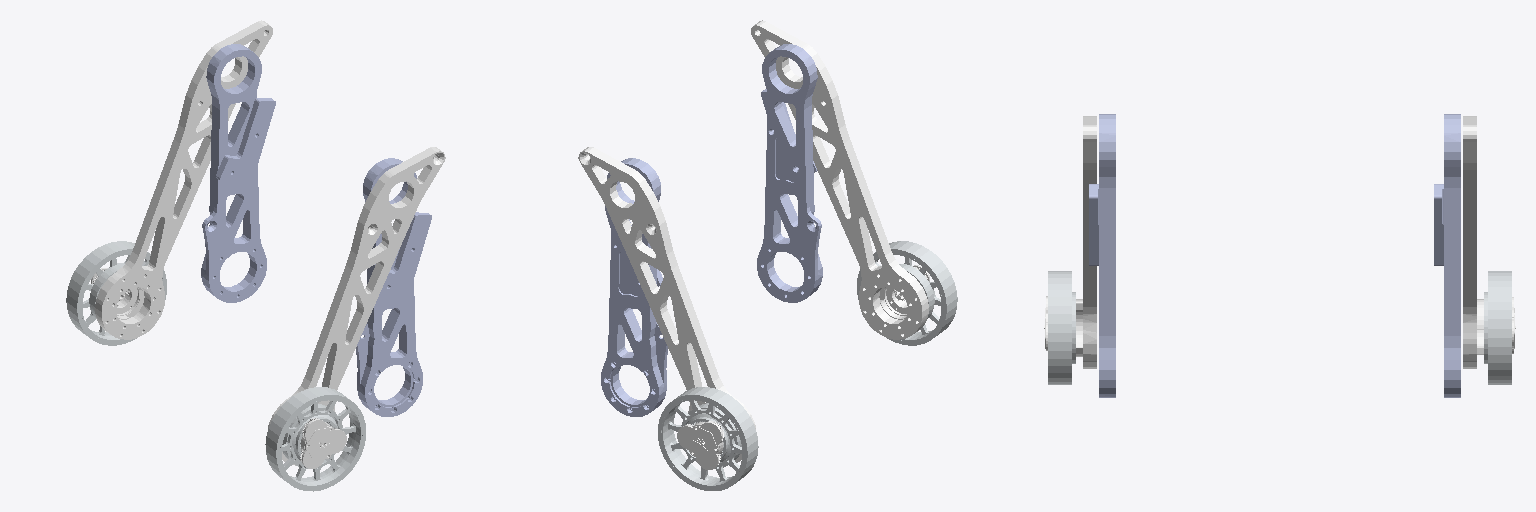
URDF robot description (universal):
<?xml version="1.0" encoding="utf-8"?>
<!-- This URDF was automatically created by SolidWorks to URDF Exporter! Originally created by [author] ([email redacted]) 
     Commit Version: 1.6.0-1-g15f4949  Build Version: 1.6.7594.29634
     For more information, please see http://wiki.ros.org/sw_urdf_exporter -->
<robot
  name="universal">
  <link
    name="base_link">
    <inertial>
      <origin
        xyz="-0.00414044238561839 -0.000691260188723397 0.0117699788251773"
        rpy="0 0 0" />
      <mass
        value="17.1531315996557" />
      <inertia
        ixx="0.0275273995724078"
        ixy="-8.22864842046397E-05"
        ixz="0.000931700623151425"
        iyy="0.0313450403332022"
        iyz="-5.19664788147283E-05"
        izz="0.0357084043722195" />
    </inertial>
    <visual>
      <origin
        xyz="0 0 0"
        rpy="0 0 0" />
      <geometry>
        <mesh
          filename="../meshes/base_link.STL" />
      </geometry>
      <material
        name="">
        <color
          rgba="0.752941176470588 0.752941176470588 0.752941176470588 1" />
      </material>
    </visual>
    <collision>
      <origin
        xyz="0 0 0"
        rpy="0 0 0" />
      <geometry>
        <mesh
          filename="../meshes/base_link.STL" />
      </geometry>
    </collision>
  </link>
  <link
    name="right_thigh">
    <inertial>
      <origin
        xyz="-0.11463603534979 0.00802052218660743 0.000250243368407732"
        rpy="0 0 0" />
      <mass
        value="0.441858933802641" />
      <inertia
        ixx="0.000184117233652697"
        ixy="-8.96093831711135E-06"
        ixz="3.62495659009169E-05"
        iyy="0.00317592791788235"
        iyz="2.62808479398655E-06"
        izz="0.00301801478319354" />
    </inertial>
    <visual>
      <origin
        xyz="0 0 0"
        rpy="0 0 0" />
      <geometry>
        <mesh
          filename="../meshes/right_thigh.STL" />
      </geometry>
      <material
        name="">
        <color
          rgba="0.792156862745098 0.819607843137255 0.933333333333333 1" />
      </material>
    </visual>
    <collision>
      <origin
        xyz="0 0 0"
        rpy="0 0 0" />
      <geometry>
        <mesh
          filename="../meshes/right_thigh.STL" />
      </geometry>
    </collision>
  </link>
  <joint
    name="right_hip"
    type="revolute">
    <origin
      xyz="0 -0.188999999999998 0"
      rpy="0 1.5707963267949 0" />
    <parent
      link="base_link" />
    <child
      link="right_thigh" />
    <axis
      xyz="0 1 0" />
    <limit
      effort="40"
      velocity="1000" />
  </joint>
  <link
    name="right_shank">
    <inertial>
      <origin
        xyz="0.198583417340179 -0.0182498340685918 0.00805495082504837"
        rpy="0 0 0" />
      <mass
        value="0.665022011740533" />
      <inertia
        ixx="0.000247019401526116"
        ixy="-4.50820506732406E-07"
        ixz="-0.000162685104870997"
        iyy="0.0063104229313752"
        iyz="-9.4711639318611E-07"
        izz="0.00609249840630011" />
    </inertial>
    <visual>
      <origin
        xyz="0 0 0"
        rpy="0 0 0" />
      <geometry>
        <mesh
          filename="../meshes/right_shank.STL" />
      </geometry>
      <material
        name="">
        <color
          rgba="1 1 1 1" />
      </material>
    </visual>
    <collision>
      <origin
        xyz="0 0 0"
        rpy="0 0 0" />
      <geometry>
        <mesh
          filename="../meshes/right_shank.STL" />
      </geometry>
    </collision>
  </link>
  <joint
    name="right_knee"
    type="revolute">
    <origin
      xyz="-0.25 0 0"
      rpy="0 0.47814 0" />
    <parent
      link="right_thigh" />
    <child
      link="right_shank" />
    <axis
      xyz="0 1 0" />
    <limit
      lower="0"
      upper="1.1414"
      effort="60"
      velocity="1000" />
  </joint>
  <link
    name="right_wheel">
    <inertial>
      <origin
        xyz="0 0.0144816532039134 -4.16333634234434E-17"
        rpy="0 0 0" />
      <mass
        value="0.204682671682961" />
      <inertia
        ixx="0.000239222338592518"
        ixy="-5.7884014169517E-19"
        ixz="-1.02743618190445E-19"
        iyy="0.000465851260808887"
        iyz="-5.38410926013559E-19"
        izz="0.000239222338592517" />
    </inertial>
    <visual>
      <origin
        xyz="0 0 0"
        rpy="0 0 0" />
      <geometry>
        <mesh
          filename="../meshes/right_wheel.STL" />
      </geometry>
      <material
        name="">
        <color
          rgba="0.898039215686275 0.917647058823529 0.929411764705882 1" />
      </material>
    </visual>
    <collision>
      <origin
        xyz="0 0.0125 0"
        rpy="1.5708 0 0" />
      <geometry>
        <cylinder length="0.025" radius="0.06" />
      </geometry>
    </collision>
  </link>
  <joint
    name="right_wheel_axis"
    type="revolute">
    <origin
      xyz="0.299776743957763 -0.0530500000000112 0.0115716801755387"
      rpy="3.14159265358979 -1.09265450367459 3.14159265358979" />
    <parent
      link="right_shank" />
    <child
      link="right_wheel" />
    <axis
      xyz="0 1 0" />
    <limit
      effort="3.8"
      velocity="1000" />
  </joint>
  <link
    name="left_thigh">
    <inertial>
      <origin
        xyz="-0.114636035349793 -0.0103849778759935 0.00025024336840751"
        rpy="0 0 0" />
      <mass
        value="0.44185893380264" />
      <inertia
        ixx="0.000184117233652697"
        ixy="1.93174051017026E-06"
        ixz="3.62495659009195E-05"
        iyy="0.00317592791788236"
        iyz="-4.71482613996317E-07"
        izz="0.00301801478319355" />
    </inertial>
    <visual>
      <origin
        xyz="0 0 0"
        rpy="0 0 0" />
      <geometry>
        <mesh
          filename="../meshes/left_thigh.STL" />
      </geometry>
      <material
        name="">
        <color
          rgba="0.792156862745098 0.819607843137255 0.933333333333333 1" />
      </material>
    </visual>
    <collision>
      <origin
        xyz="0 0 0"
        rpy="0 0 0" />
      <geometry>
        <mesh
          filename="../meshes/left_thigh.STL" />
      </geometry>
    </collision>
  </link>
  <joint
    name="left_hip"
    type="revolute">
    <origin
      xyz="0 0.189000000000002 0"
      rpy="0 1.5707963267949 0" />
    <parent
      link="base_link" />
    <child
      link="left_thigh" />
    <axis
      xyz="0 1 0" />
    <limit
      effort="40"
      velocity="1000" />
  </joint>
  <link
    name="left_shank">
    <inertial>
      <origin
        xyz="0.198589227412355 0.0182498337675623 0.00779435910757187"
        rpy="0 0 0" />
      <mass
        value="0.665022006366515" />
      <inertia
        ixx="0.000247115408819347"
        ixy="4.91331212099465E-07"
        ixz="-0.000164836780219266"
        iyy="0.00631042293136743"
        iyz="-8.69605071617117E-07"
        izz="0.00609240239899857" />
    </inertial>
    <visual>
      <origin
        xyz="0 0 0"
        rpy="0 0 0" />
      <geometry>
        <mesh
          filename="../meshes/left_shank.STL" />
      </geometry>
      <material
        name="">
        <color
          rgba="1 1 1 1" />
      </material>
    </visual>
    <collision>
      <origin
        xyz="0 0 0"
        rpy="0 0 0" />
      <geometry>
        <mesh
          filename="../meshes/left_shank.STL" />
      </geometry>
    </collision>
  </link>
  <joint
    name="left_knee"
    type="revolute">
    <origin
      xyz="-0.250000000000001 0 0"
      rpy="0 0.478141823120307 0" />
    <parent
      link="left_thigh" />
    <child
      link="left_shank" />
    <axis
      xyz="0 1 0" />
    <limit
      lower="0"
      upper="1.1414"
      effort="60"
      velocity="1000" />
  </joint>
  <link
    name="left_wheel">
    <inertial>
      <origin
        xyz="1.11022302462516E-16 -0.0144816532039134 3.46944695195361E-17"
        rpy="0 0 0" />
      <mass
        value="0.204682671682962" />
      <inertia
        ixx="0.000239222338592518"
        ixy="-1.44792859496127E-18"
        ixz="-1.60370745960042E-19"
        iyy="0.000465851260808888"
        iyz="-2.72311800680959E-19"
        izz="0.000239222338592518" />
    </inertial>
    <visual>
      <origin
        xyz="0 0 0"
        rpy="0 0 0" />
      <geometry>
        <mesh
          filename="../meshes/left_wheel.STL" />
      </geometry>
      <material
        name="">
        <color
          rgba="0.898039215686275 0.917647058823529 0.929411764705882 1" />
      </material>
    </visual>
    <collision>
      <origin
        xyz="0 -0.0125 0"
        rpy="1.5708 0 0" />
      <geometry>
        <cylinder length="0.025" radius="0.06" />
      </geometry>
    </collision>
  </link>
  <joint
    name="left_wheel_axis"
    type="revolute">
    <origin
      xyz="0.299776743957766 0.0530499999999951 0.0115716801755382"
      rpy="3.14159265358979 -1.09265450367459 3.14159265358979" />
    <parent
      link="left_shank" />
    <child
      link="left_wheel" />
    <axis
      xyz="0 1 0" />
    <limit
      effort="3.8"
      velocity="1000" />
  </joint>
</robot>

--- What the picture shows (computed from the rendered views, not written in the file) ---
Views: 3 orthographic renders of the robot side by side, from view 1: azimuth 30°, elevation 25°; view 2: azimuth 150°, elevation 25°; view 3: azimuth 270°, elevation 25°.
Model universal with 7 links and 6 joints (6 revolute), rooted at base_link, posed all joints at 0.
Visible links, largest first — view 1: left_shank, right_shank, left_thigh, right_thigh, right_wheel, left_wheel; view 2: right_shank, left_shank, right_thigh, left_thigh, left_wheel, right_wheel; view 3: right_thigh, left_thigh, left_shank, right_shank, right_wheel, left_wheel.
Boxes of the visible links, box(x1,y1,x2,y2) form: left_shank: box(91, 20, 272, 339); right_shank: box(268, 147, 445, 468); left_thigh: box(201, 44, 275, 302); right_thigh: box(356, 158, 431, 416); right_wheel: box(265, 387, 365, 491); left_wheel: box(66, 241, 166, 345); right_shank: box(751, 20, 929, 339); left_shank: box(578, 147, 755, 469); right_thigh: box(757, 44, 822, 302); left_thigh: box(601, 158, 667, 416); left_wheel: box(658, 387, 758, 490); right_wheel: box(857, 241, 957, 345); right_thigh: box(1089, 114, 1115, 397); left_thigh: box(1434, 114, 1460, 397); left_shank: box(1463, 116, 1515, 368); right_shank: box(1044, 116, 1096, 368); right_wheel: box(1048, 271, 1075, 384); left_wheel: box(1484, 271, 1511, 384).
Size in the robot's own frame: 0.2463 by 0.492 by 0.3752 metres.
6 mesh visuals loaded from 7 distinct referenced files (6 binary STL); not drawn: 1 (reference not matched to a file when rendering).